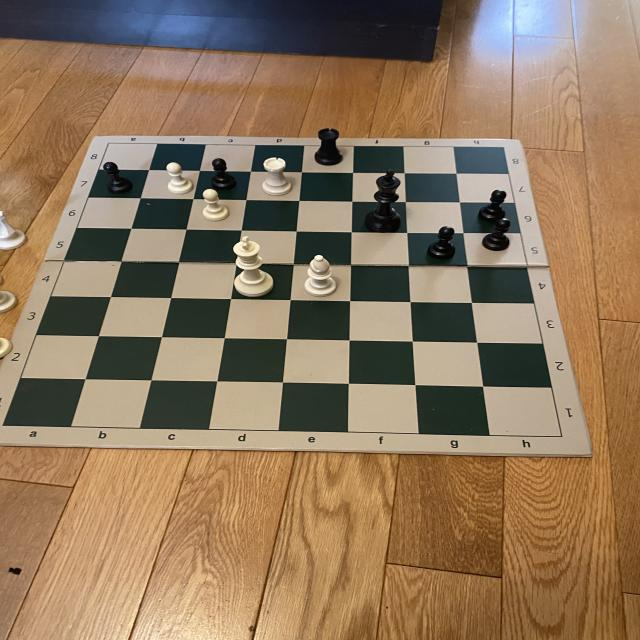Chessboard-Corners: (553, 430, 572, 442), (0, 420, 17, 431), (104, 141, 114, 147), (498, 145, 507, 149)
